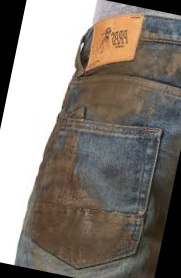earth: (29, 197, 126, 257), (82, 68, 137, 120), (37, 146, 77, 201), (134, 44, 181, 85)
